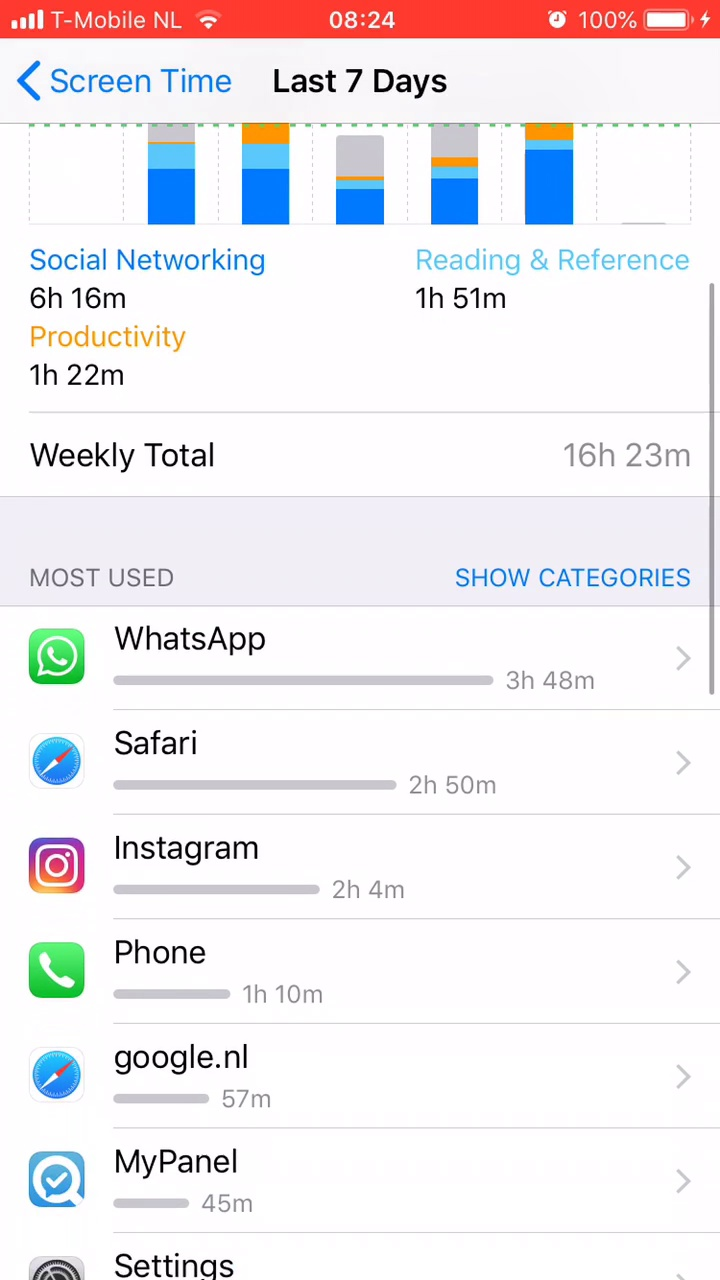use_over: (9, 235, 701, 483)
week: (258, 60, 462, 107)
